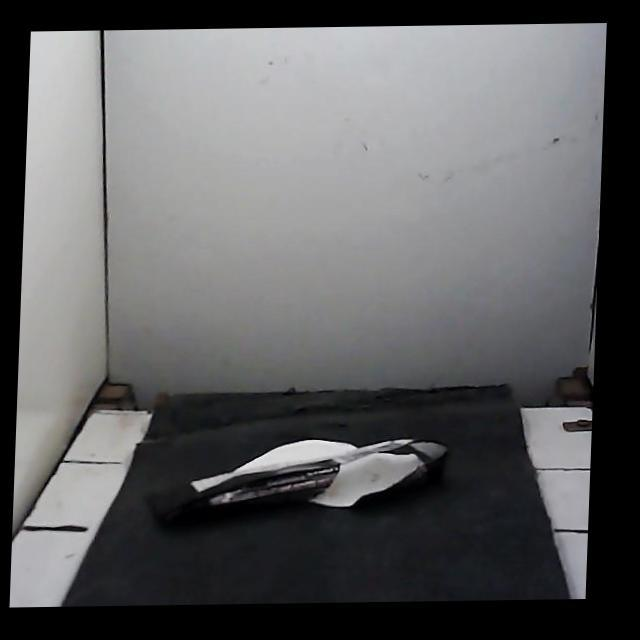plastico: (149, 438, 448, 522)
